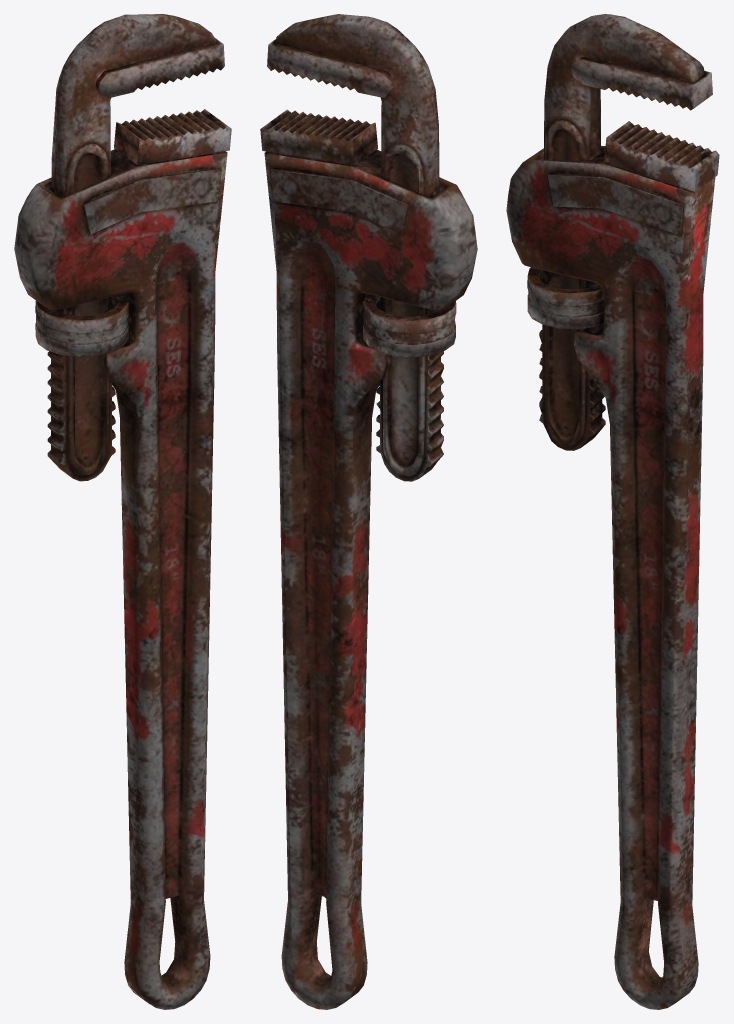
File: pipe_wrench.glb
3 renders of one model, left to right at view 1: azimuth 30°, elevation 25°; view 2: azimuth 150°, elevation 25°; view 3: azimuth 330°, elevation 25°, orthographic. The views are drawn at different scales.
Visible parts, largest first — view 1: pipe_wrench; view 2: pipe_wrench; view 3: pipe_wrench.
Boxes of the visible parts, bbox=[...] form: pipe_wrench: bbox=[14, 14, 231, 1009]; pipe_wrench: bbox=[260, 14, 477, 1009]; pipe_wrench: bbox=[506, 14, 719, 1009].
Bounding box in the file's own units: 0.0839 × 0.4042 × 0.0339.
1 material, 1 textured.
